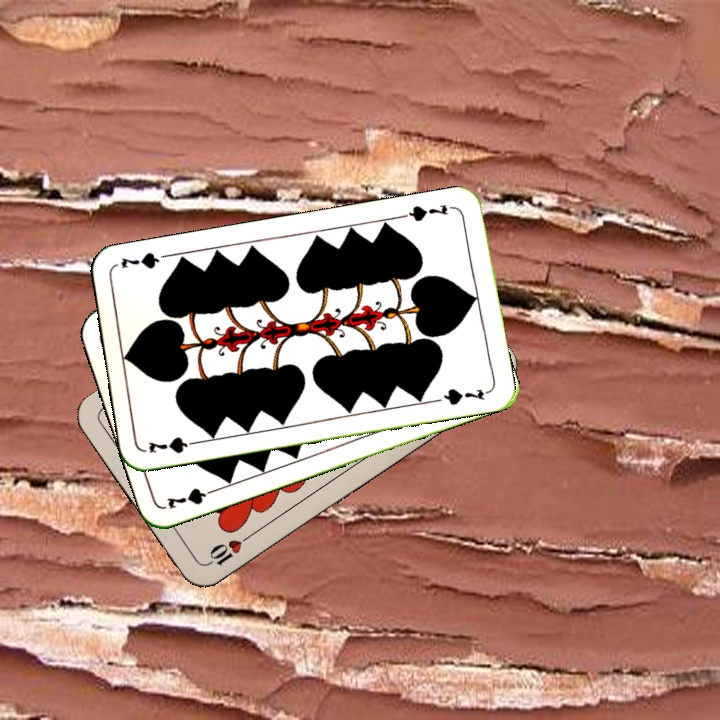G7: (163, 483, 221, 512), (144, 432, 203, 456), (399, 200, 458, 224)
H10: (203, 529, 255, 569)
